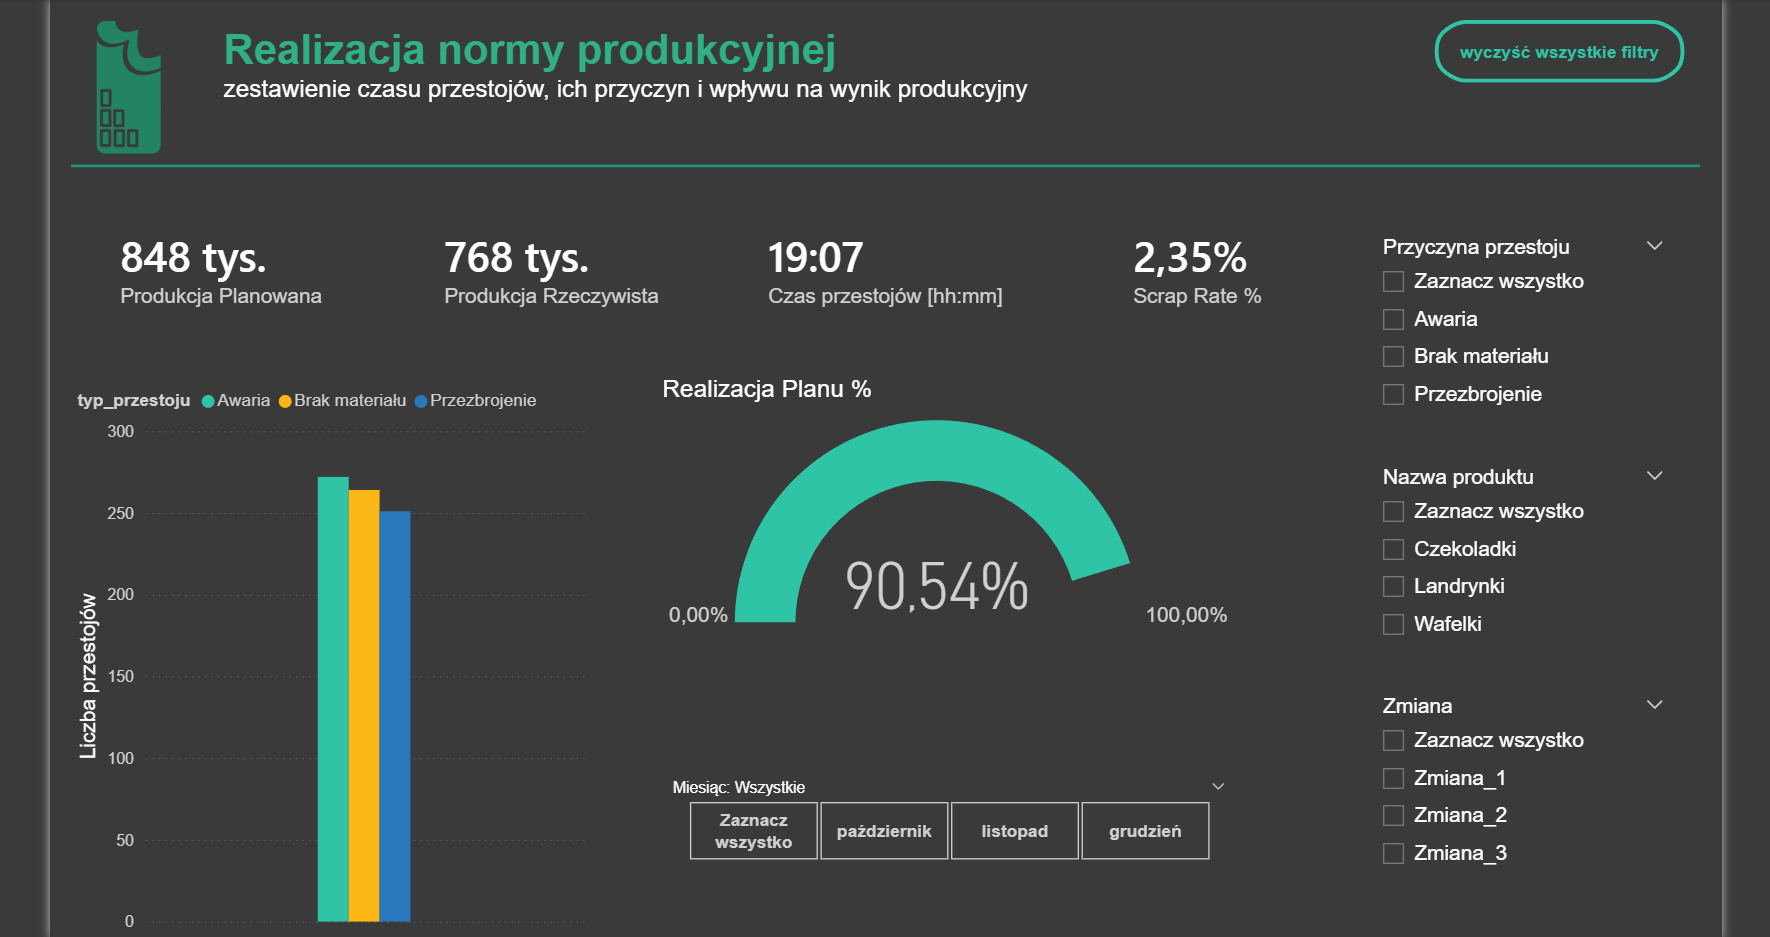

The dashboard page shown, as its layout file describes it:
{"tool":"powerbi","page":{"name":"Podsumowanie produkcji","canvas":[1280,720],"ordinal":1},"visuals":[{"type":"cardVisual","fields":{"Data":["Miary.Produkcja Plan"]},"box":[24,128,248,152],"z":0},{"type":"cardVisual","fields":{"Data":["Miary.Produkcja Rzeczywista"]},"box":[272,128,248,152],"z":1000},{"type":"cardVisual","fields":{"Data":["Miary.Scrap Rate %"]},"box":[800,128,256,152],"z":2000},{"type":"cardVisual","fields":{"Data":["Miary.minuty przestoju"]},"box":[520,128,248,152],"z":3000},{"type":"gauge","fields":{"Y":["Miary.Realizacja Planu %"]},"box":[464,288,448,208],"z":4000},{"type":"slicer","fields":{"Values":["typ_przestoju.Typ"]},"box":[1008,176,240,176],"z":5000},{"type":"slicer","fields":{"Values":["produkcja.nazwa produktu"]},"box":[1008,352,240,176],"z":6000},{"type":"slicer","fields":{"Values":["Kalendarz.Date.Odmiana.Hierarchia dat.Miesiąc"]},"box":[464,592,448,72],"z":7000},{"type":"shape","box":[16,112,1248,32],"z":8000},{"type":"image","box":[16,16,88,104],"z":9000},{"type":"textbox","box":[128,16,1152,96],"z":10000},{"type":"actionButton","box":[1056,16,200,48],"z":11000},{"type":"clusteredColumnChart","fields":{"Series":["przestoje.typ_przestoju"],"Y":["Miary.Liczba przestojów"]},"box":[16,288,400,432],"z":12000},{"type":"slicer","fields":{"Values":["produkcja.zmiana"]},"box":[1008,528,240,160],"z":13000}]}

Visuals, with their boxes on the page's 1280x720 design canvas (x1, y1, x2, y2). These are canvas units, not pixel positions in the 1770x937 screenshot, which may show the page scaled, cropped or inside an application window:
cardVisual - Miary.Produkcja Plan: x1=24 y1=128 x2=272 y2=280
cardVisual - Miary.Produkcja Rzeczywista: x1=272 y1=128 x2=520 y2=280
cardVisual - Miary.Scrap Rate %: x1=800 y1=128 x2=1056 y2=280
cardVisual - Miary.minuty przestoju: x1=520 y1=128 x2=768 y2=280
gauge - Miary.Realizacja Planu %: x1=464 y1=288 x2=912 y2=496
slicer - typ_przestoju.Typ: x1=1008 y1=176 x2=1248 y2=352
slicer - produkcja.nazwa produktu: x1=1008 y1=352 x2=1248 y2=528
slicer - Kalendarz.Date.Odmiana.Hierarchia dat.Miesiąc: x1=464 y1=592 x2=912 y2=664
shape: x1=16 y1=112 x2=1264 y2=144
image: x1=16 y1=16 x2=104 y2=120
textbox: x1=128 y1=16 x2=1280 y2=112
actionButton: x1=1056 y1=16 x2=1256 y2=64
clusteredColumnChart - przestoje.typ_przestoju x Miary.Liczba przestojów: x1=16 y1=288 x2=416 y2=720
slicer - produkcja.zmiana: x1=1008 y1=528 x2=1248 y2=688
